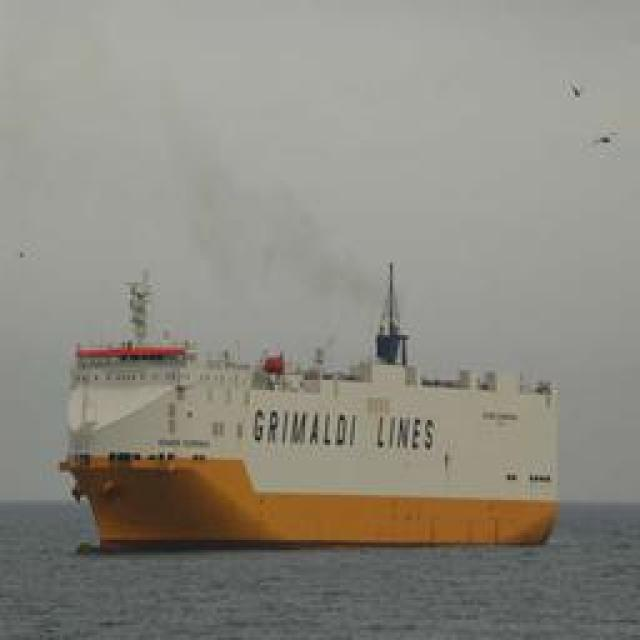CIV_Ship: (57, 246, 575, 549)
